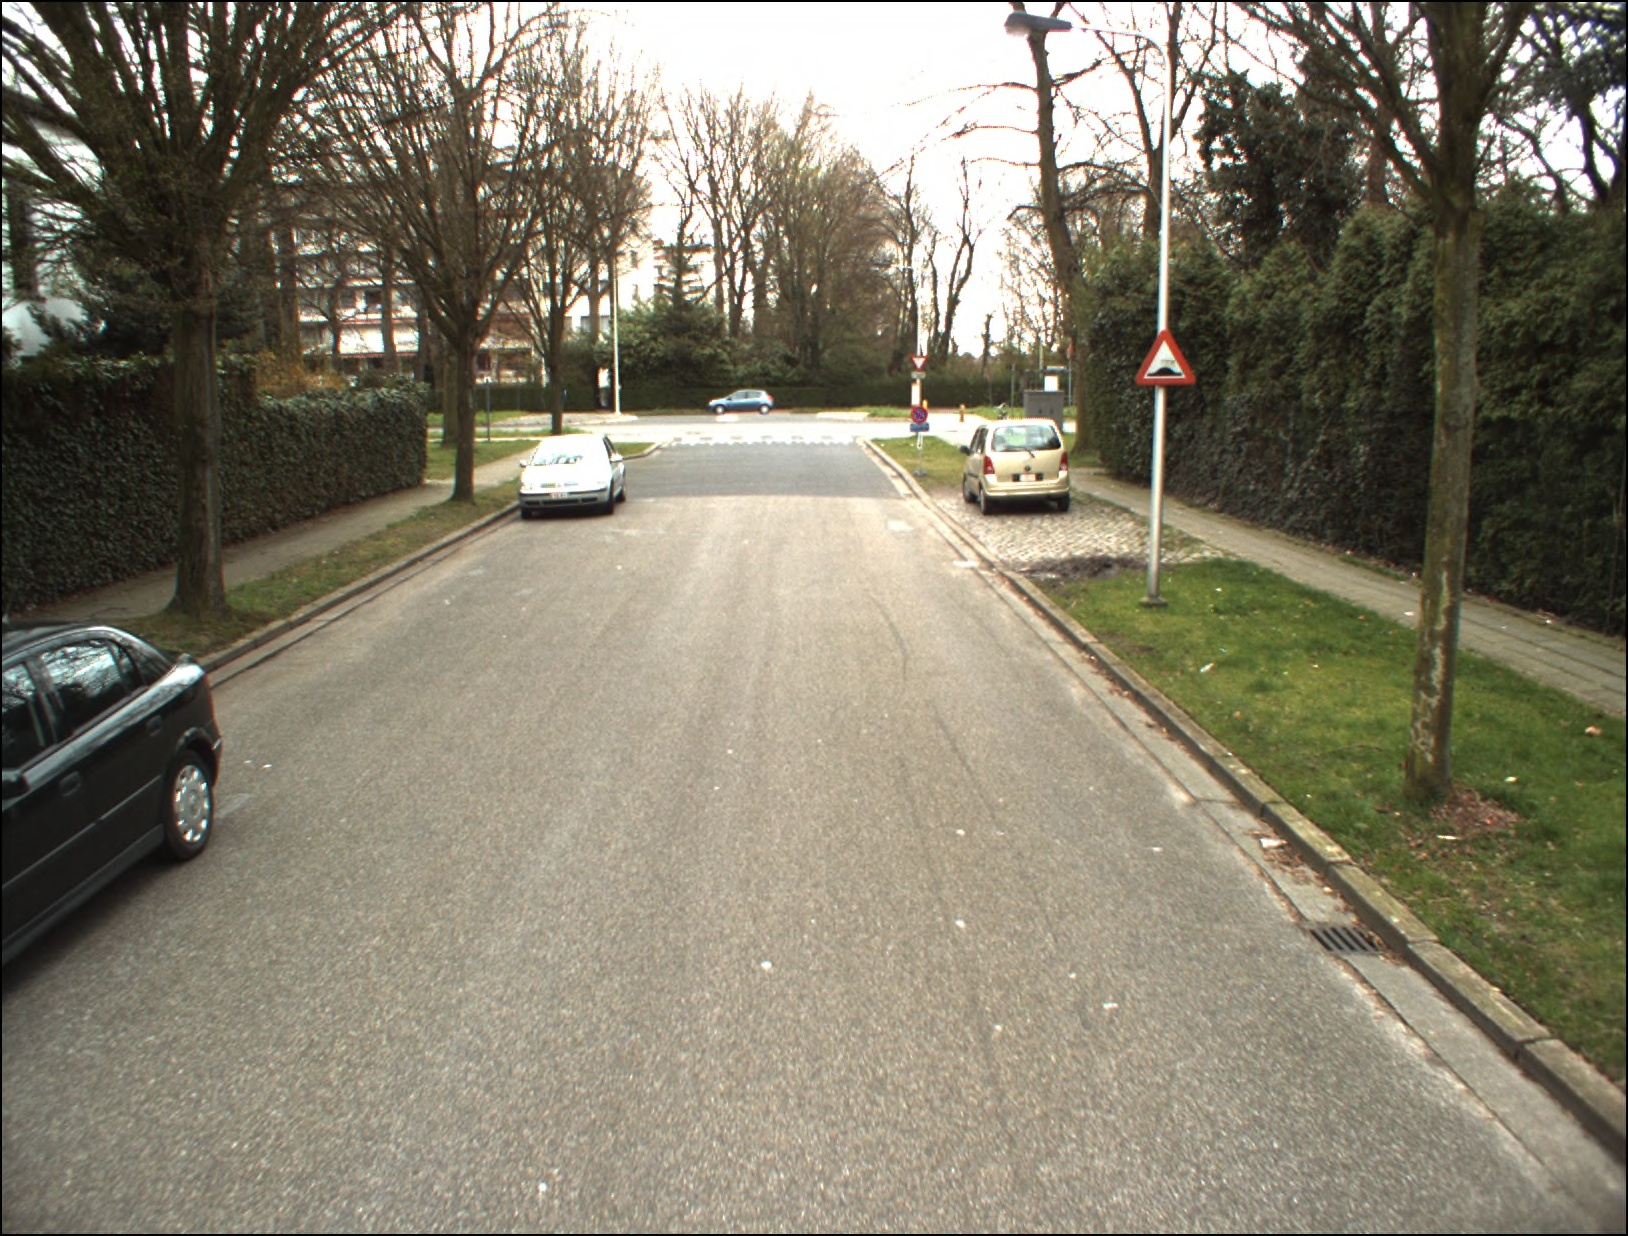giveway: (906, 351, 932, 373)
speedbump: (1136, 328, 1196, 389)
